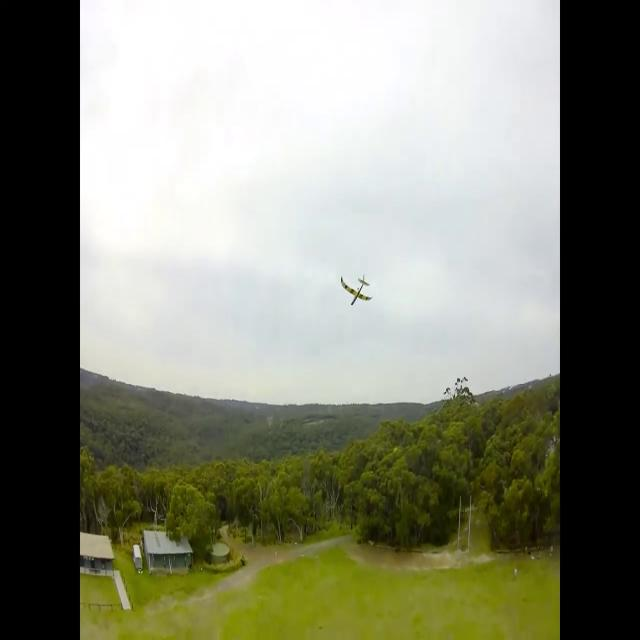iha: (340, 271, 371, 309)
